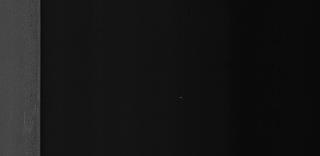silk spot: (18, 86, 36, 138)
